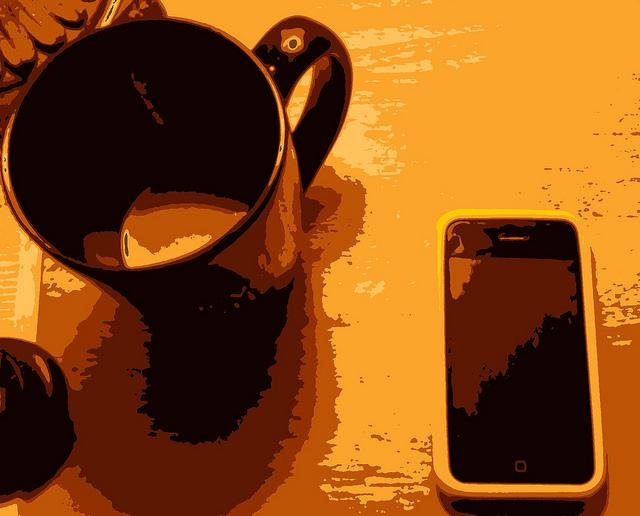cup: (3, 17, 351, 351)
